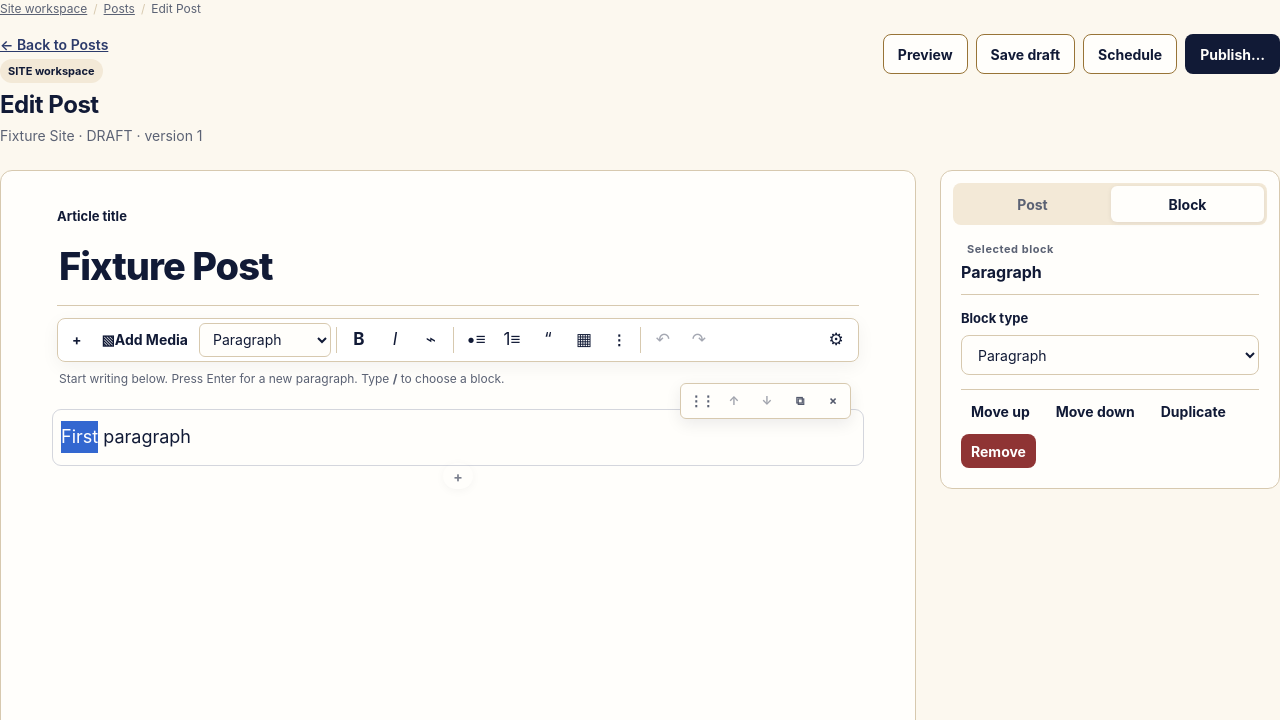
it: unified toolbar formats the active writer and More exposes only advanced blocks
The width and height of the screenshot is (1280, 720).
Expected: the element named "Editor toolbar" is shown, 57,318 -> 859,362
Click the button named "Bold" at (359, 340), box 342,322 -> 376,356
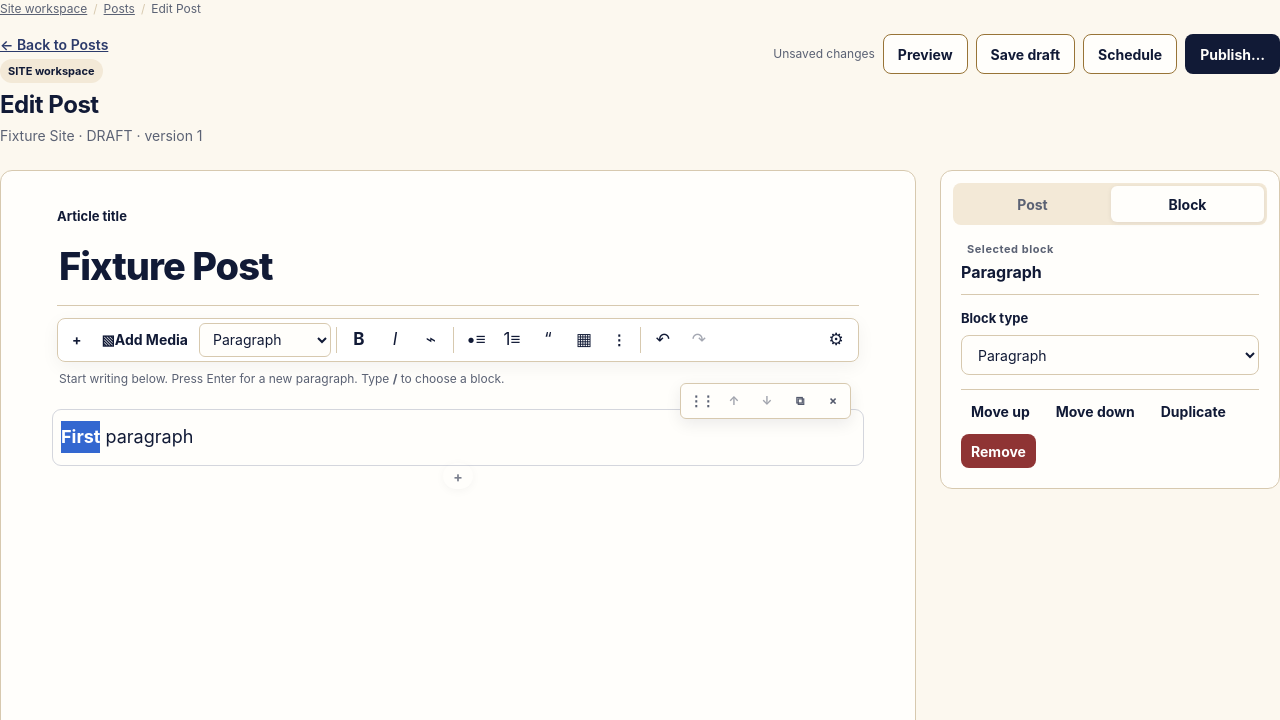
Expected: the text box labelled "First" is shown, 61,426 -> 100,446
Click the button named "More" at (619, 340), box 603,322 -> 635,356
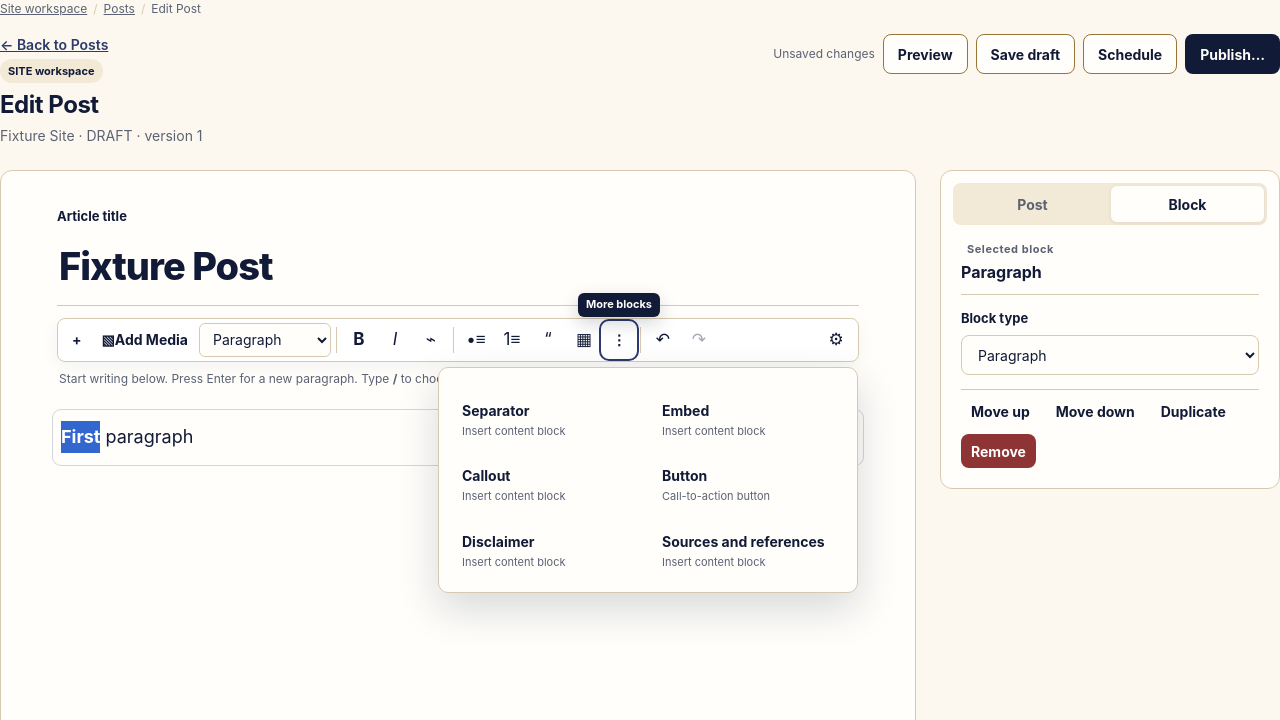
Now the button "Embed Insert content block" is shown, box 651,390 -> 845,449
Now the button "Callout Insert content block" is shown
Now the button "Button Call-to-action button" is shown, box 651,455 -> 845,514
Click the button "Callout Insert content block" at (548, 485), box 451,455 -> 645,514
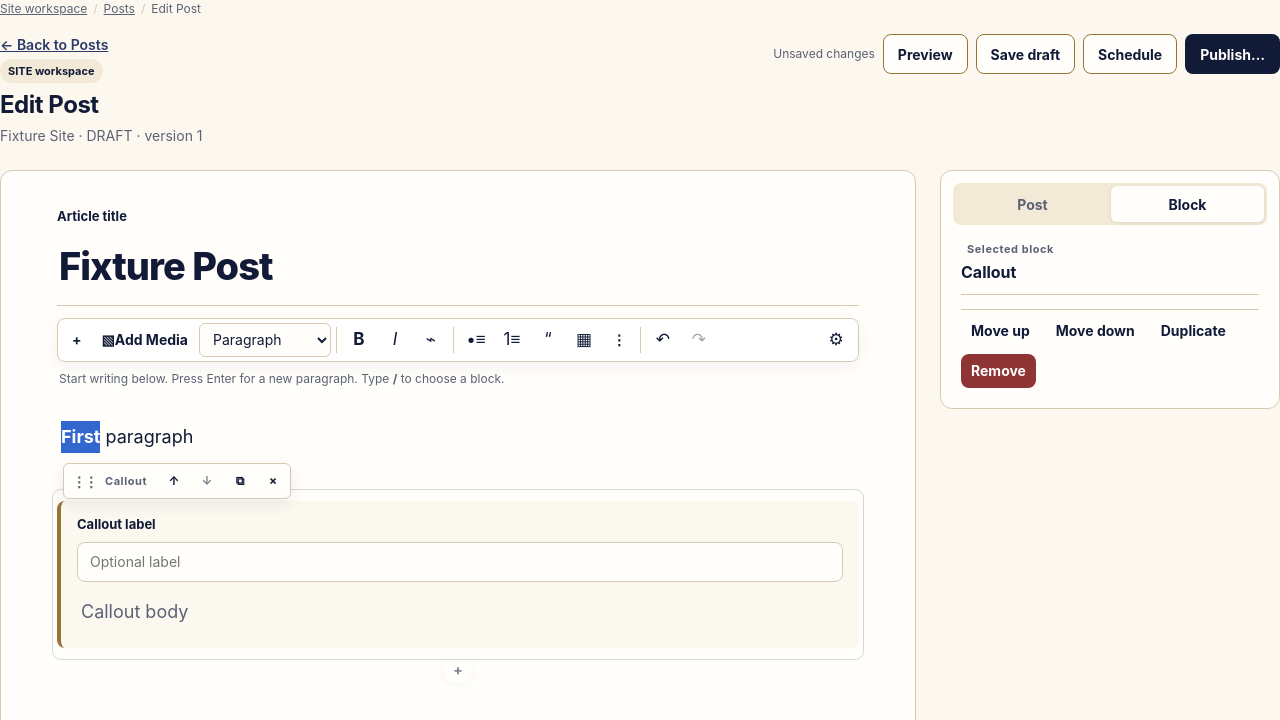
Now the field labelled "Callout label" is shown, box 77,542 -> 843,582
